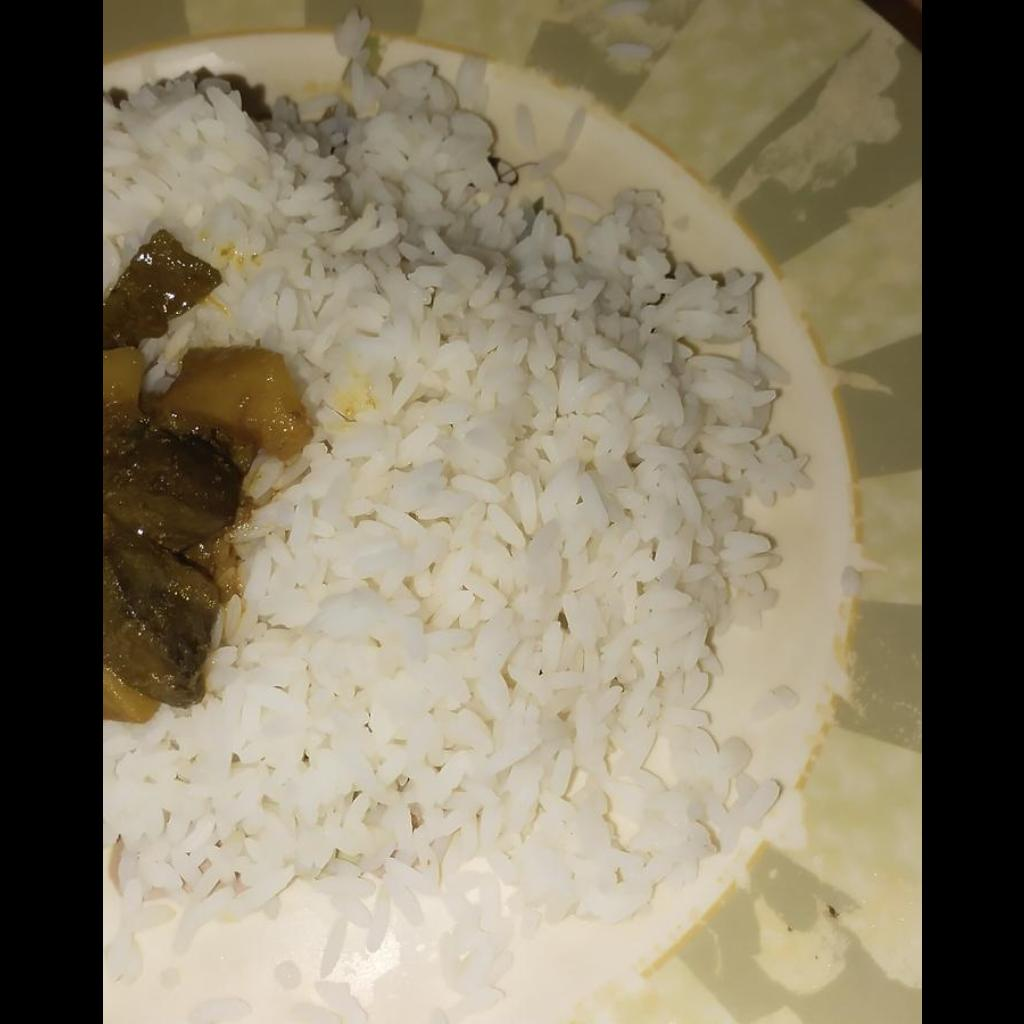beef: (102, 234, 296, 707)
rice: (102, 13, 801, 1016)
